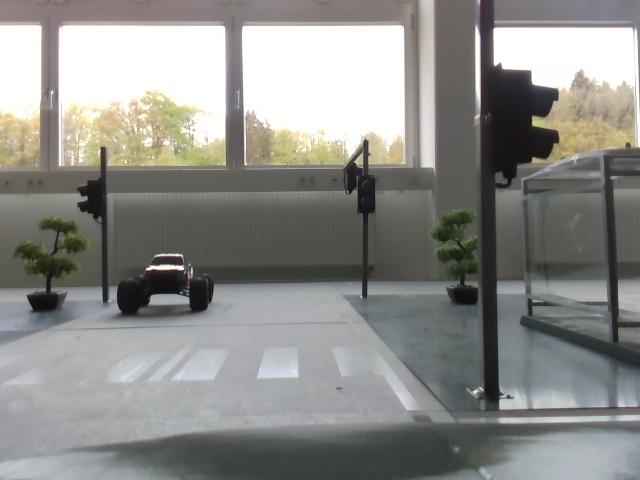car: (107, 247, 223, 317)
potted plant: (18, 218, 85, 312), (427, 211, 487, 315)
traffic light: (483, 73, 555, 178), (75, 177, 114, 220), (361, 175, 376, 215), (346, 166, 361, 193)
